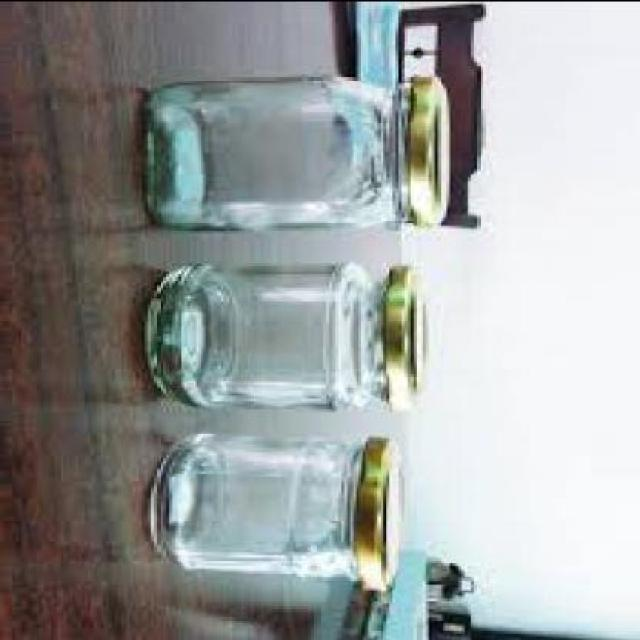GLASS: (149, 70, 416, 227), (151, 257, 395, 411), (157, 430, 366, 576)
METAL: (355, 435, 408, 583), (386, 262, 439, 408), (413, 71, 456, 218)
